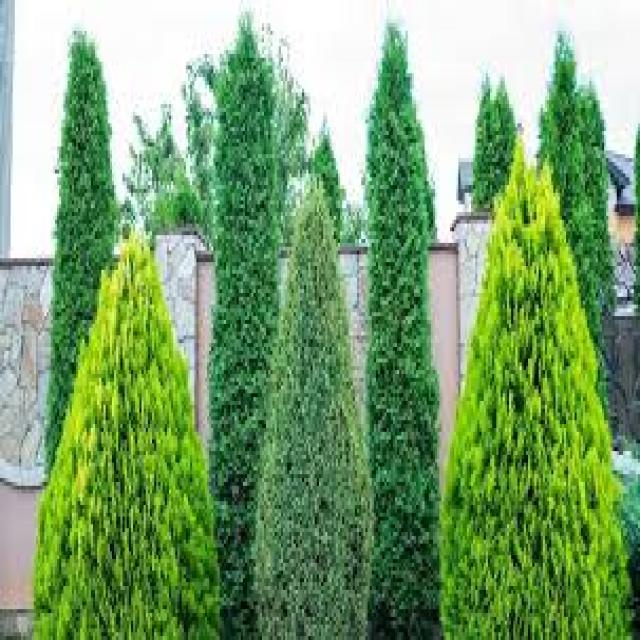foliage: (438, 138, 633, 636), (36, 239, 222, 636), (256, 181, 372, 636), (366, 18, 444, 636), (207, 24, 283, 636), (46, 26, 119, 475), (536, 28, 616, 375)
